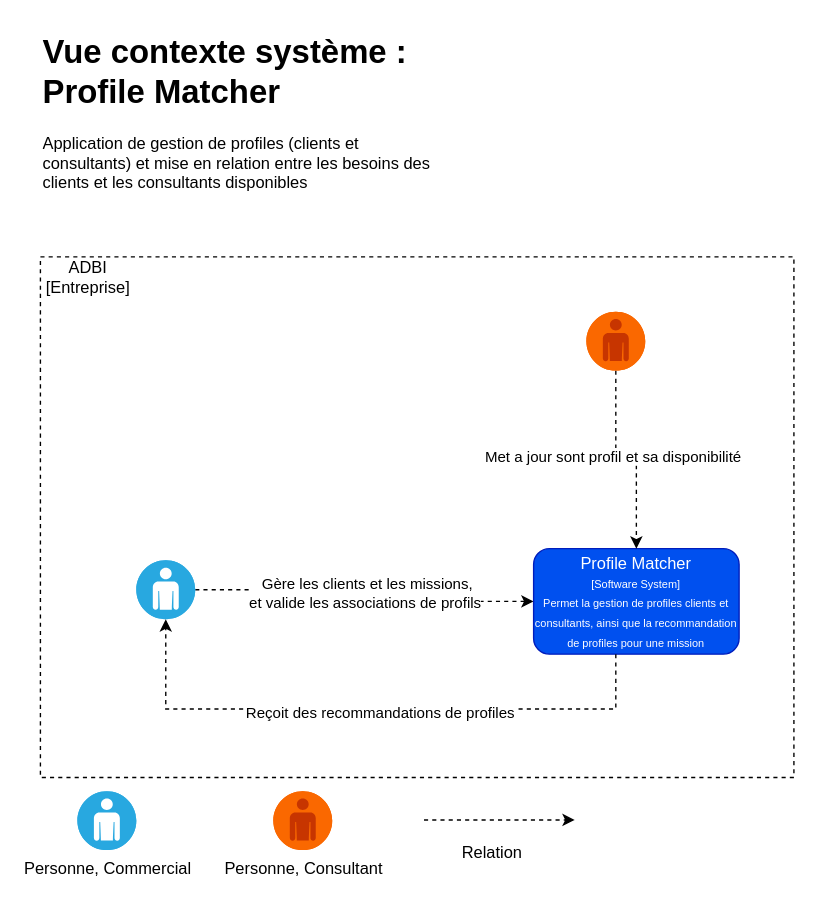
Image size: 818x922. Some labels were removed from this diagram. The box of each missing label's shape, as (x1, y1, x2, y2) in pixels:
Commercial [Person]: (135, 559, 195, 619)
Consultant [Person]: (585, 310, 645, 371)
